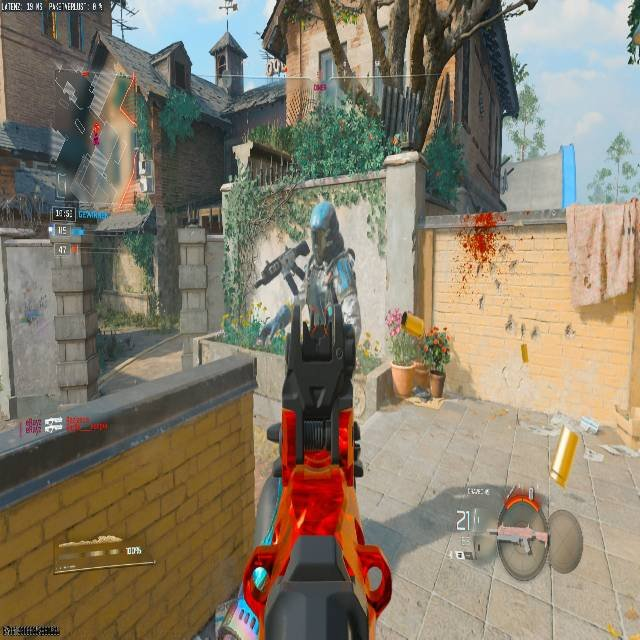player: (256, 242, 313, 341)
